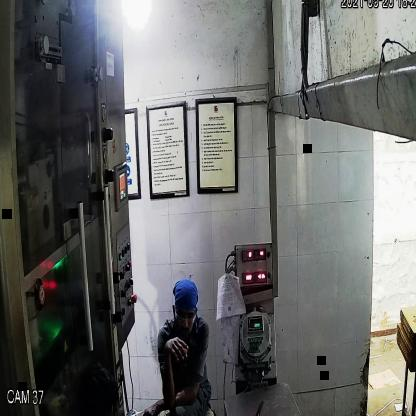goggles: (173, 302, 198, 327)
